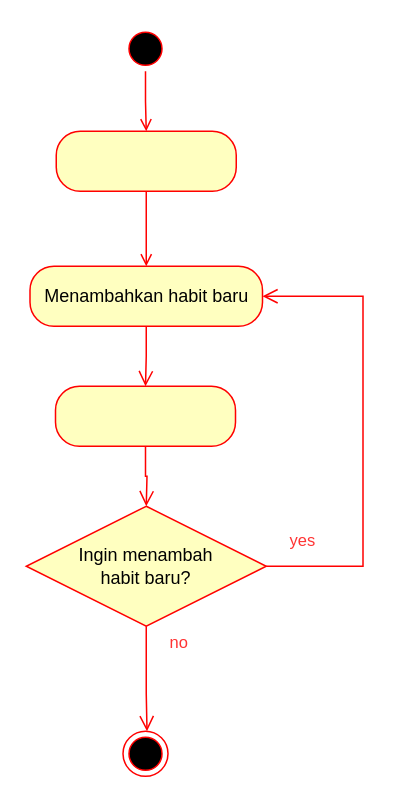
Some shapes in this 405 by 803 pixel diagram are drawn without their labels. Each missing label, with the box of its shape:
Membuka app: (55, 130, 236, 191)
Simpan habit baru: (54, 385, 236, 446)
